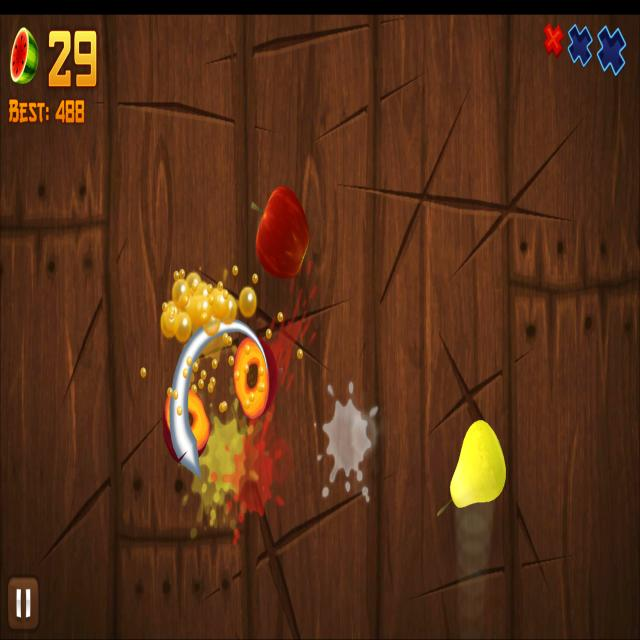fruit: (256, 184, 311, 280), (450, 420, 506, 508)
